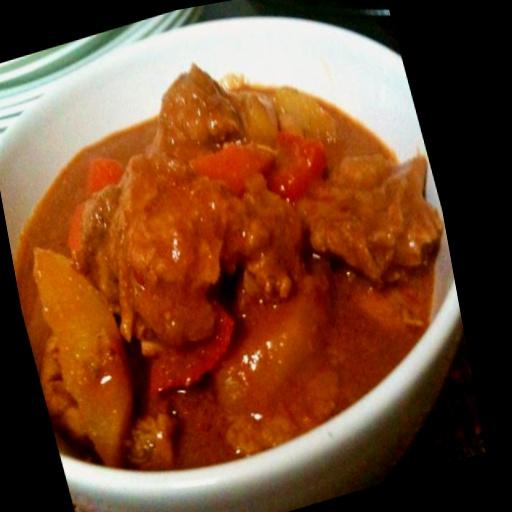pork caldereta: (17, 69, 435, 474)
